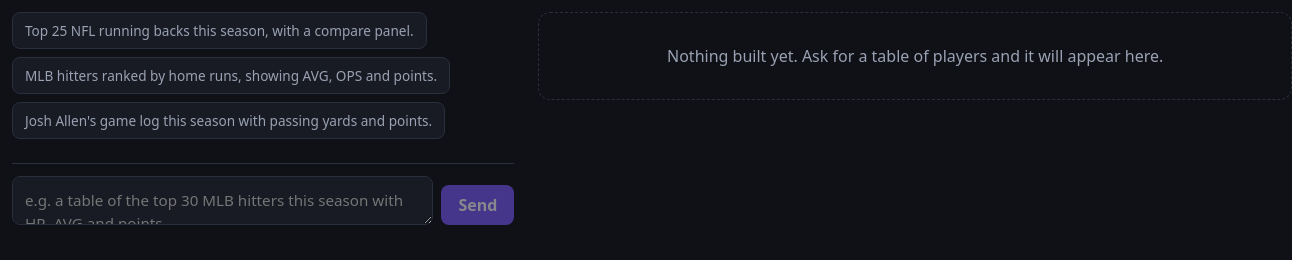
Test case: DashboardBuilderPage › previews the dashboard the builder returns, with live data
Check: the text "Nothing built yet. Ask for a table of players and it will appear here." is shown, box x1=538 y1=12 x2=1291 y2=100
Replace the text in the text box labelled "e.g. a table of the top 30 MLB hitters this season with HR, AVG and points…" with "top mlb hitters" at coordinates (223, 200), box x1=12 y1=176 x2=434 y2=225
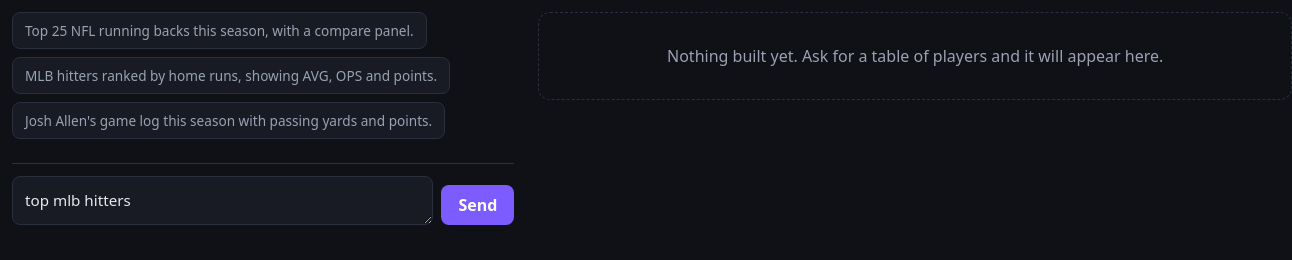
Click the button "Send".
click(478, 205)  # box x1=442 y1=185 x2=514 y2=225
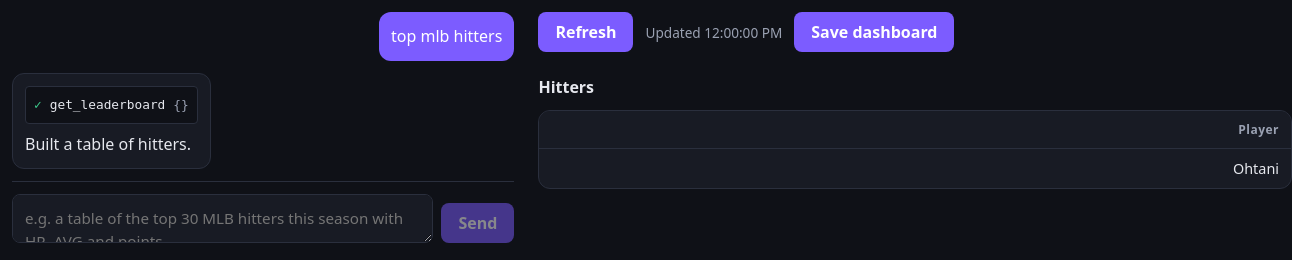
Check: the table named "Hitters" is shown, box x1=539 y1=111 x2=1291 y2=188
Check: the text "Ohtani" is shown, box x1=539 y1=149 x2=1291 y2=188
Check: the heading "✓ get_leaderboard {}" is shown, box x1=34 y1=97 x2=189 y2=112
